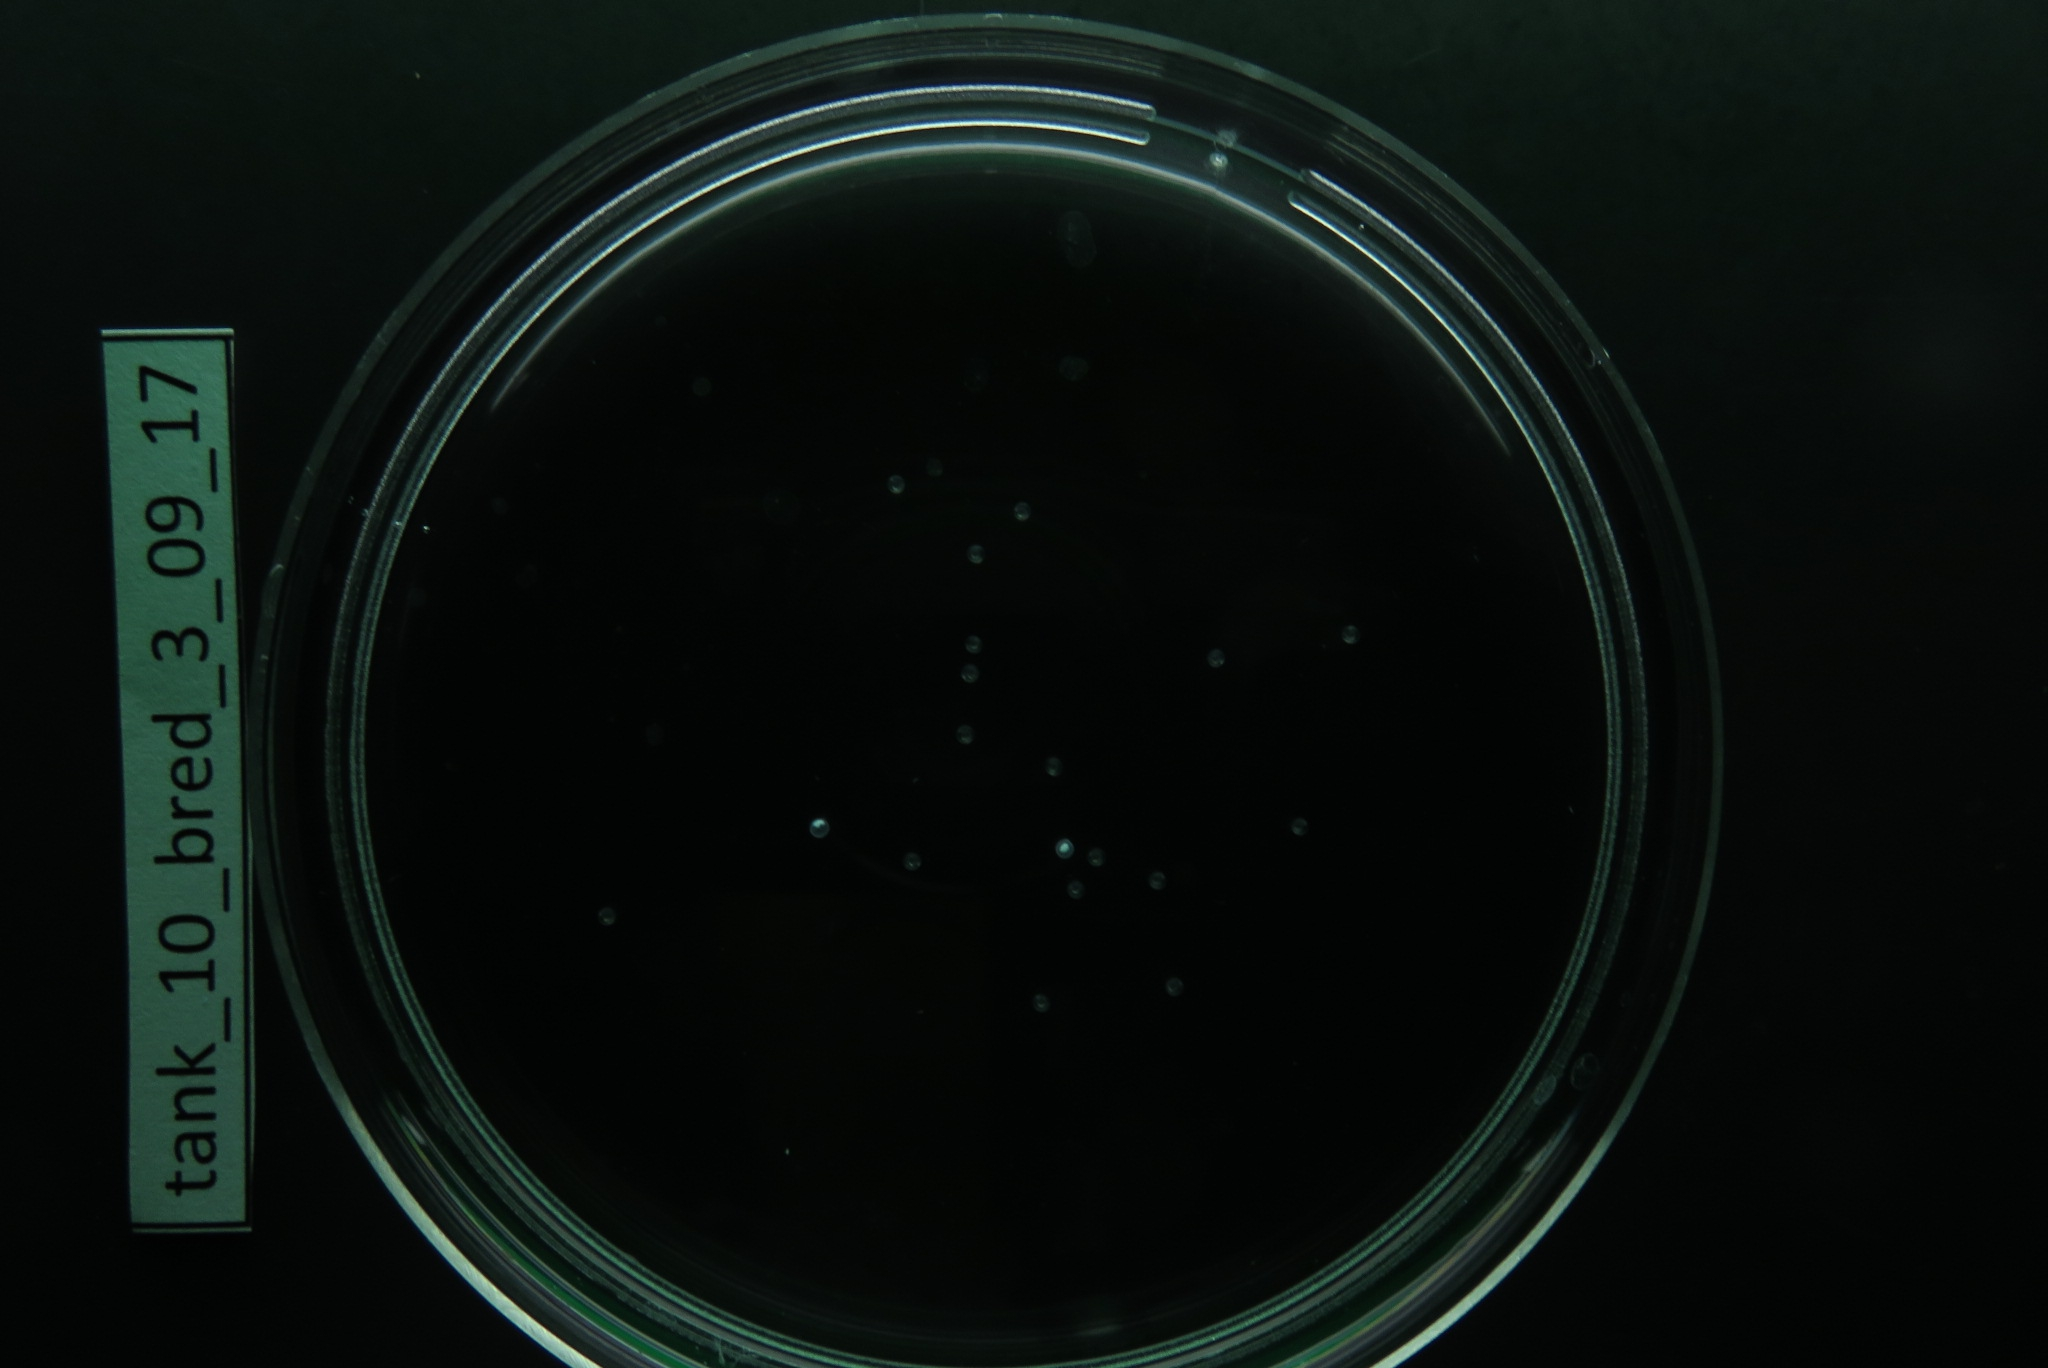bad_egg: (804, 814, 832, 844), (1056, 838, 1077, 861)
good_egg: (1337, 621, 1361, 644), (963, 634, 984, 657), (958, 663, 980, 686), (902, 852, 925, 873), (595, 905, 615, 930), (952, 724, 974, 745), (1206, 647, 1227, 669), (1164, 977, 1184, 999), (1044, 756, 1064, 776), (1032, 992, 1050, 1012), (1290, 818, 1308, 837), (1087, 847, 1103, 867), (1151, 870, 1167, 889), (1067, 881, 1084, 898), (1016, 501, 1032, 518), (891, 475, 905, 489), (971, 544, 984, 557)
w: (1061, 879, 1084, 899)
